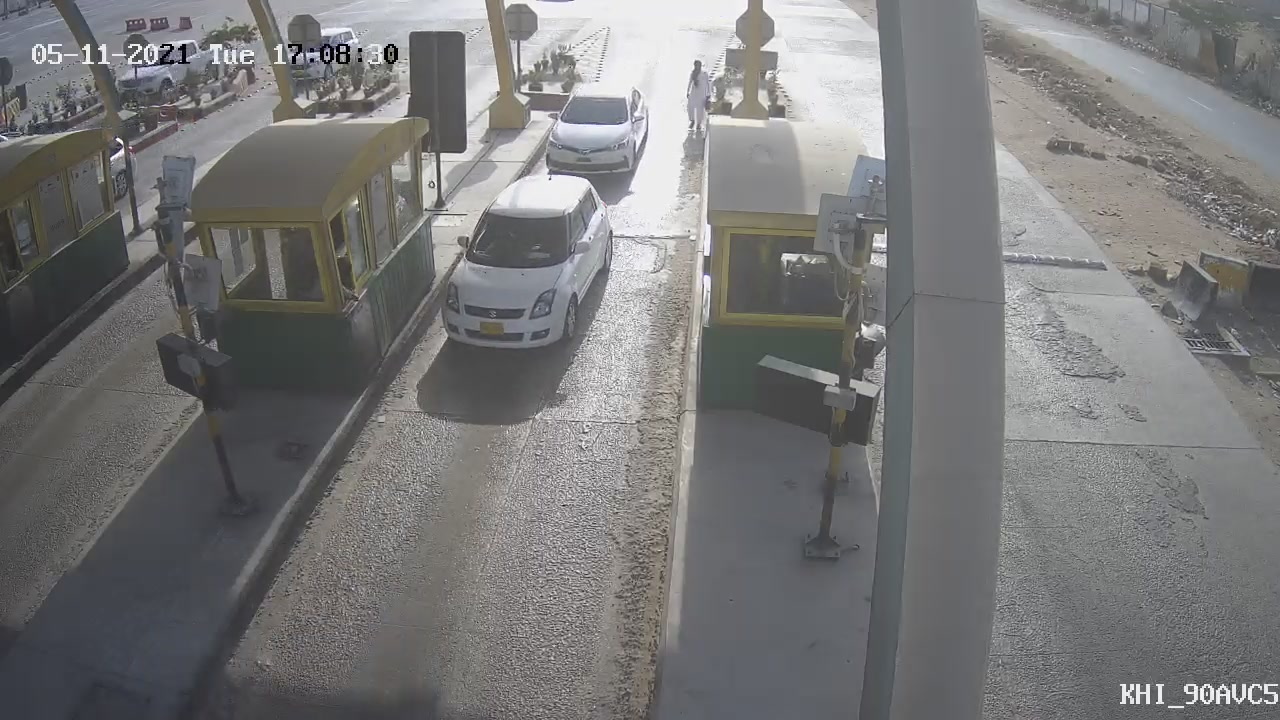F1: (418, 162, 638, 362), (533, 69, 661, 191)
